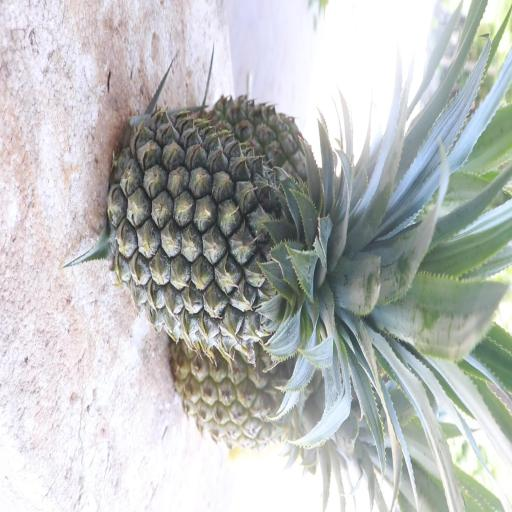------------------------------: (172, 334, 491, 504)
